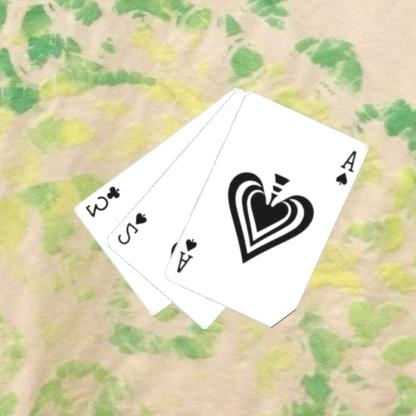2S: (116, 209, 150, 246)
3C: (83, 183, 123, 219)
AS: (334, 147, 359, 187), (175, 236, 200, 275)
